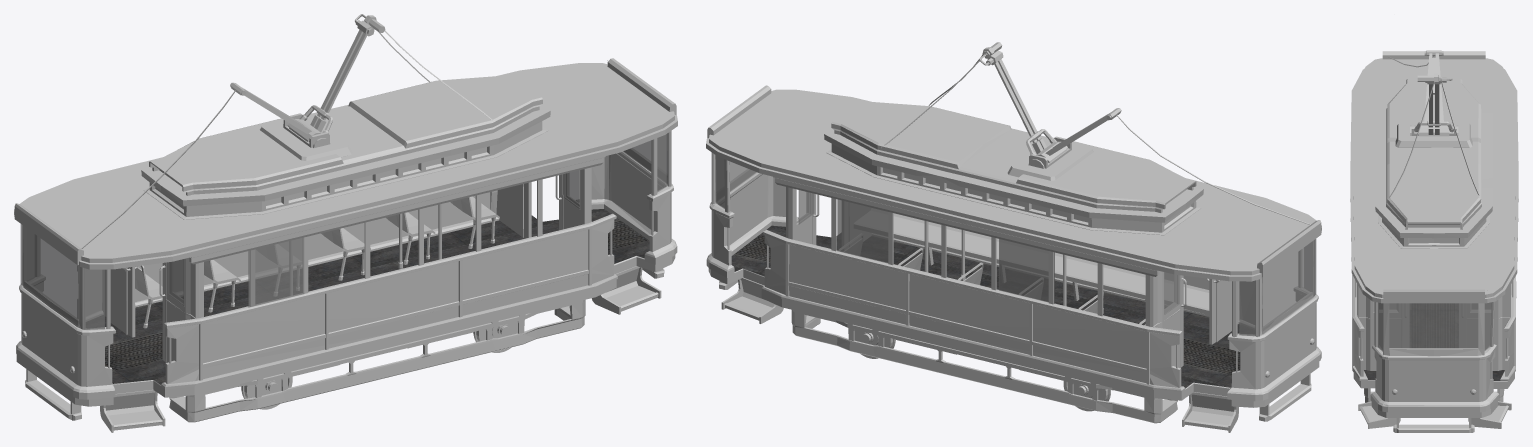
Rendered from _tram.FBX.
3 renders of one model, left to right at view 1: azimuth 30°, elevation 25°; view 2: azimuth 150°, elevation 25°; view 3: azimuth 270°, elevation 25°, orthographic. The views are drawn at different scales.
Visible parts, largest first — view 1: mesh 4, mesh 2, mesh 1, mesh 3, mesh 5; view 2: mesh 4, mesh 2, mesh 1, mesh 5, mesh 3; view 3: mesh 4, mesh 2, mesh 5, mesh 3.
Part boxes in pixels (bbox=[...]): mesh 4: bbox=[14, 14, 677, 422]; mesh 2: bbox=[16, 131, 677, 432]; mesh 1: bbox=[22, 152, 665, 382]; mesh 3: bbox=[86, 209, 649, 384]; mesh 5: bbox=[20, 133, 667, 329]; mesh 4: bbox=[706, 42, 1321, 423]; mesh 2: bbox=[706, 152, 1321, 432]; mesh 1: bbox=[717, 172, 1314, 386]; mesh 5: bbox=[715, 155, 1316, 336]; mesh 3: bbox=[731, 225, 1254, 388]; mesh 4: bbox=[1350, 50, 1518, 432]; mesh 2: bbox=[1352, 275, 1516, 428]; mesh 5: bbox=[1377, 283, 1511, 351]; mesh 3: bbox=[1364, 303, 1507, 380].
Size of the model in its own units: 0.0128 by 0.00737 by 0.00378.
